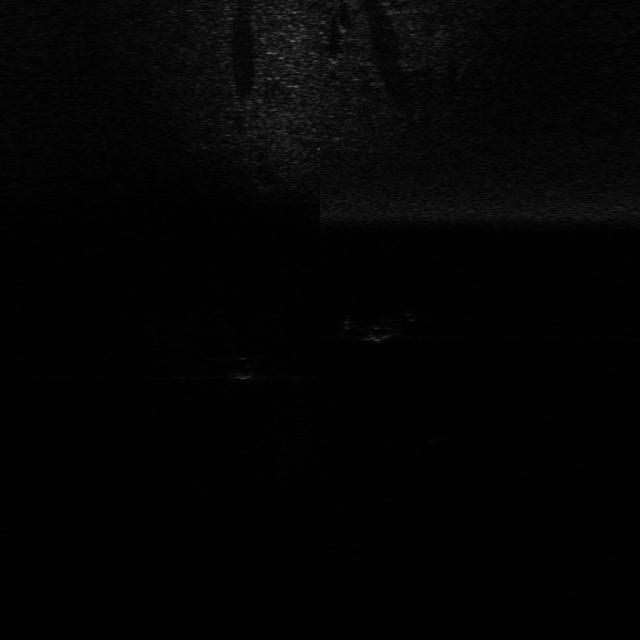ball: (228, 352, 260, 382)
human body: (338, 302, 422, 344)
